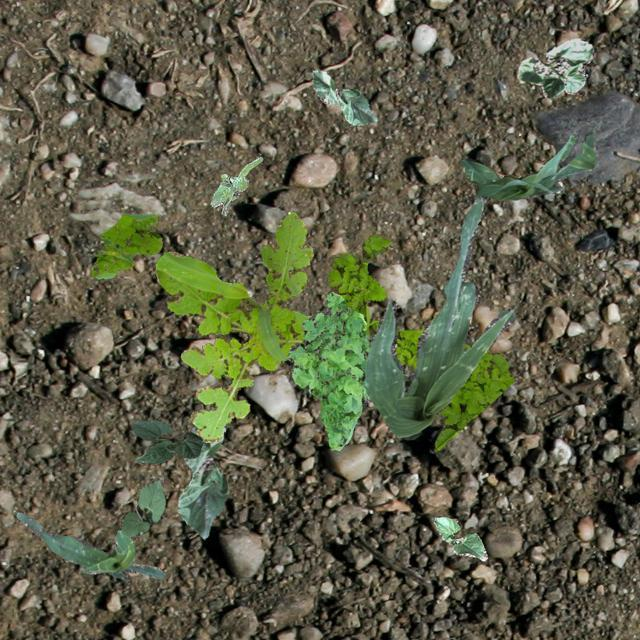crop: (363, 194, 515, 438), (15, 512, 164, 580), (460, 130, 594, 200), (176, 424, 228, 538), (516, 38, 592, 98), (310, 70, 376, 124), (130, 418, 202, 462), (118, 476, 164, 536), (432, 516, 487, 560)
weed: (326, 232, 514, 448), (154, 210, 312, 442), (286, 292, 372, 449), (90, 212, 162, 278), (210, 156, 262, 214)
